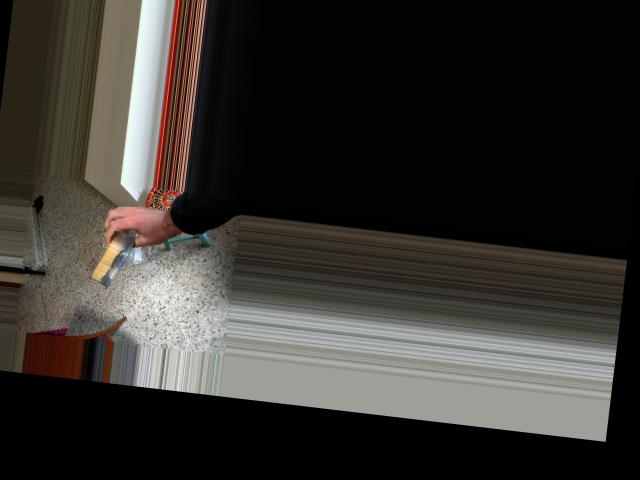cheese: (68, 193, 155, 296)
